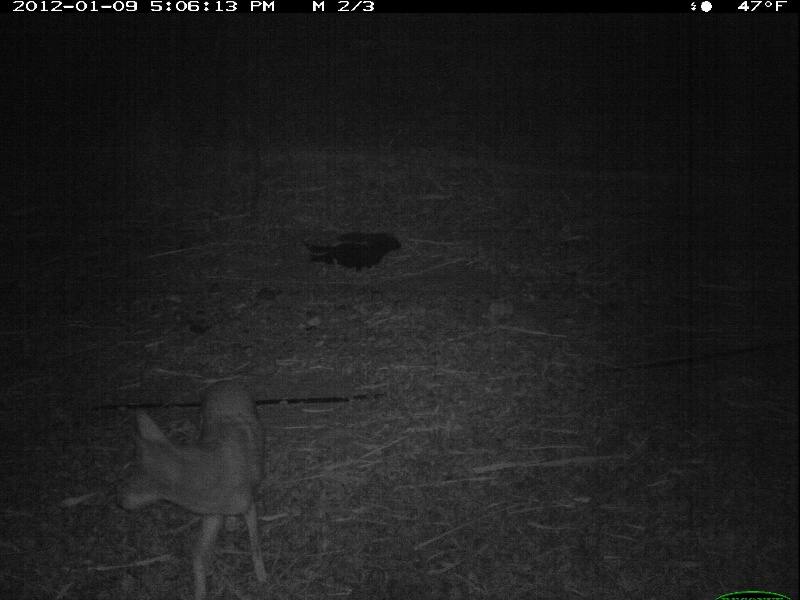coyote: (118, 373, 271, 600)
